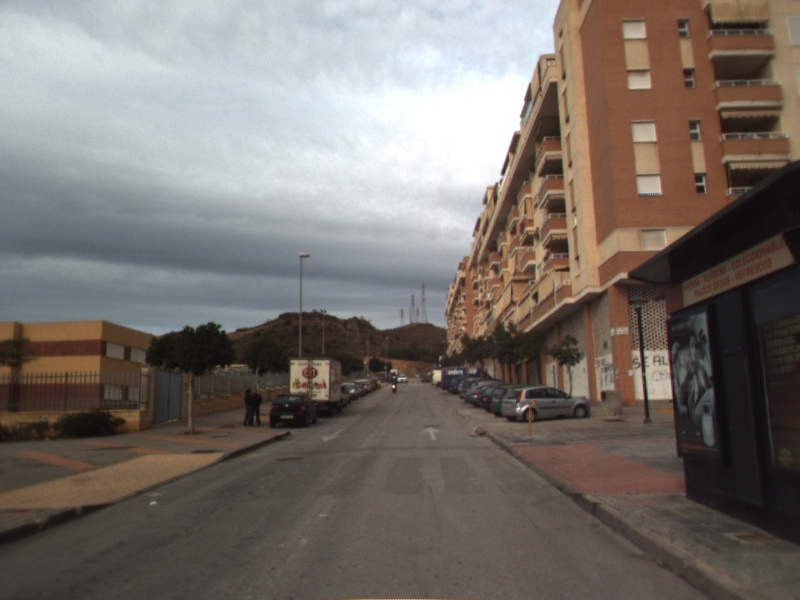STRAIGHT: (420, 424, 443, 442)
